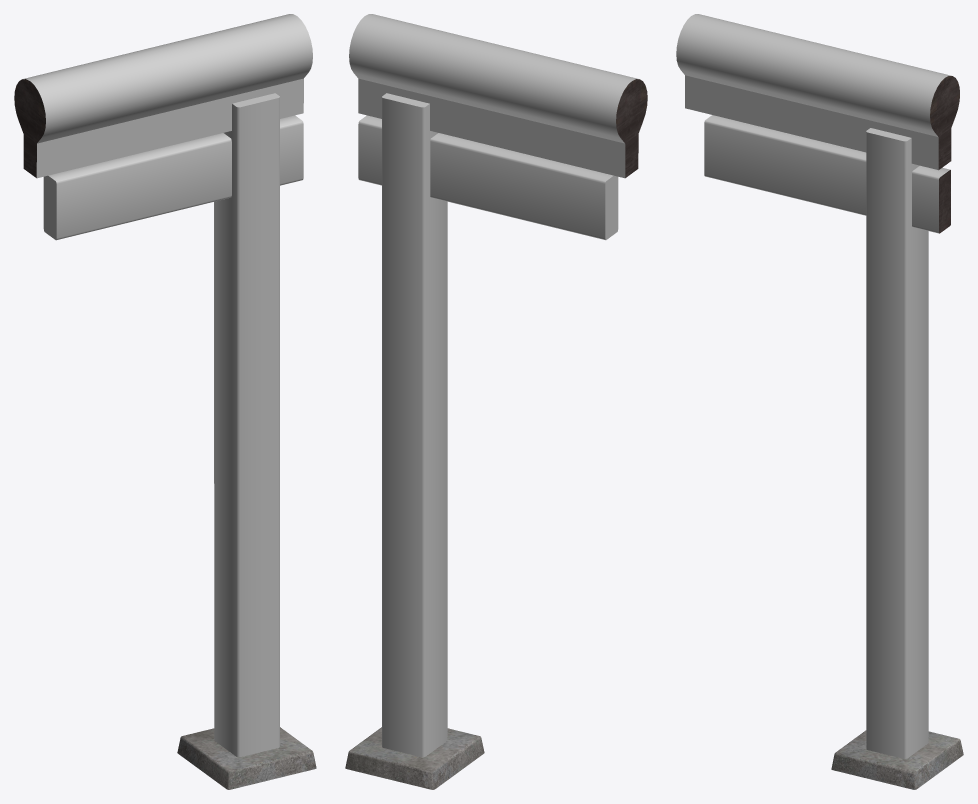
Rendered from SM_Pillar_7.FBX.
The picture shows the model from 3 angles, left to right: view 1: azimuth 30°, elevation 25°; view 2: azimuth 150°, elevation 25°; view 3: azimuth 330°, elevation 25°; orthographic projection. The views are drawn at different scales.
Visible parts, largest first — view 1: SM_Pillar_7; view 2: SM_Pillar_7; view 3: SM_Pillar_7.
Part boxes in pixels (x1,y1,x2,y2): SM_Pillar_7: (14, 14, 316, 789); SM_Pillar_7: (345, 14, 647, 789); SM_Pillar_7: (676, 14, 963, 789).
Size of the model in its own units: 321 by 843 by 108.
